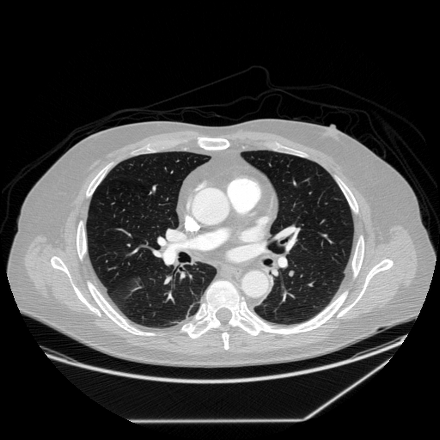nodule: (288, 270, 294, 276)
